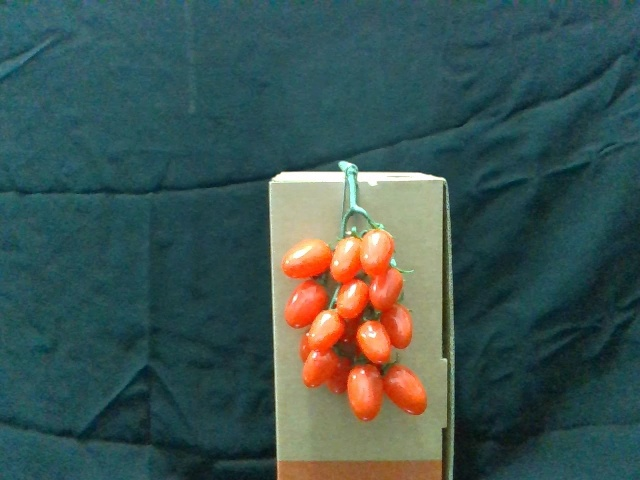tomato: (385, 363, 430, 418), (281, 237, 333, 282), (346, 363, 383, 424), (285, 281, 328, 329), (356, 318, 393, 368), (300, 348, 342, 392), (307, 310, 346, 354), (382, 304, 417, 352), (331, 234, 364, 284), (363, 227, 396, 276), (369, 267, 404, 312), (337, 277, 370, 320)
